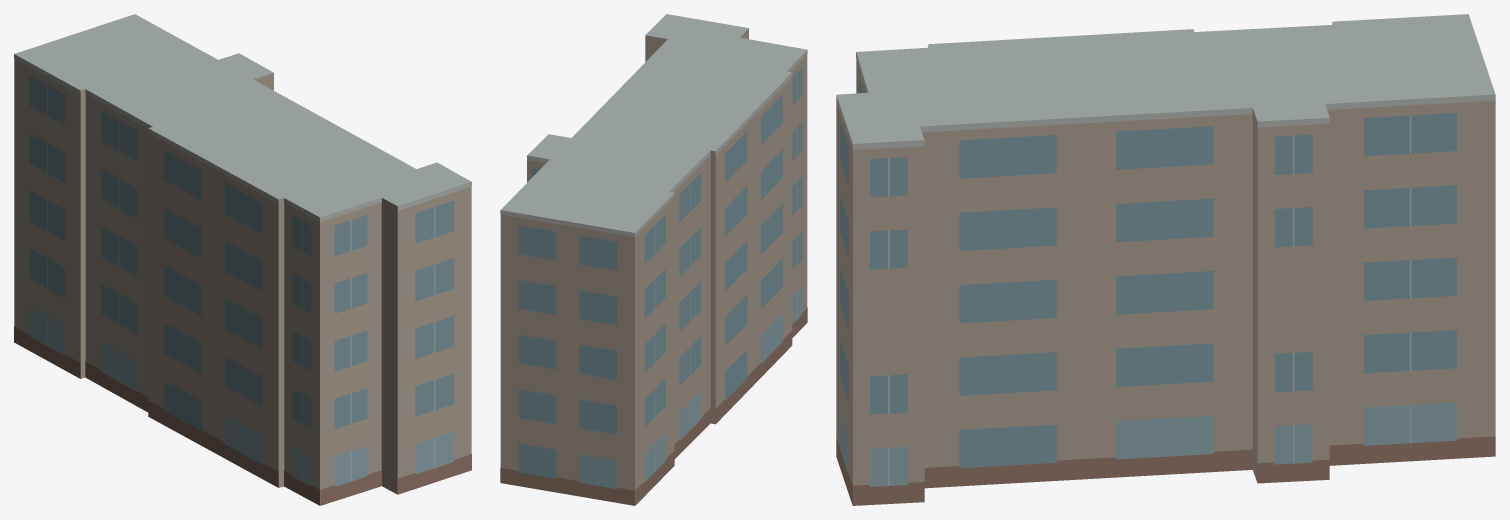
Rendered from survey-upis-32709196.glb.
The picture shows the model from 3 angles, left to right: view 1: azimuth 30°, elevation 25°; view 2: azimuth 150°, elevation 25°; view 3: azimuth 270°, elevation 25°; orthographic projection. The views are drawn at different scales.
Parts seen in each view (by area): view 1: survey-upis-32709196.tmp; view 2: survey-upis-32709196.tmp; view 3: survey-upis-32709196.tmp.
Part boxes in pixels (<box>): survey-upis-32709196.tmp: <box>14,14,471,505</box>; survey-upis-32709196.tmp: <box>500,14,807,505</box>; survey-upis-32709196.tmp: <box>836,14,1495,505</box>.
Bounding box in the file's own units: 11.33 × 14.7 × 24.28.
